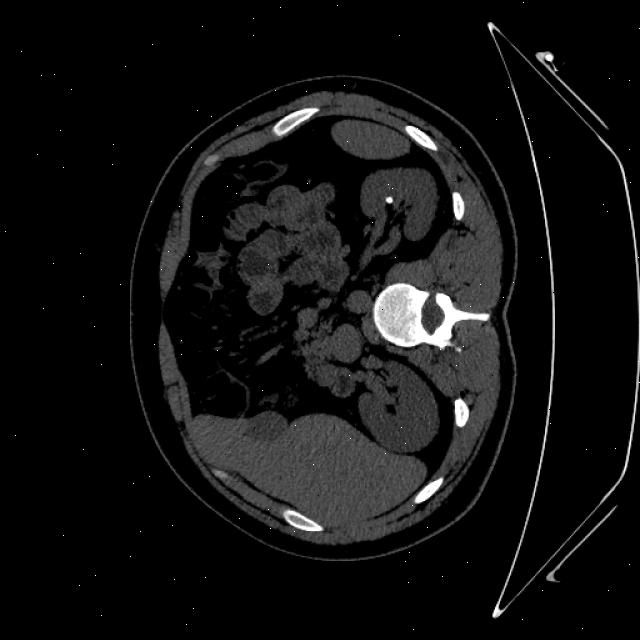kidneystone: (385, 195, 393, 204)
